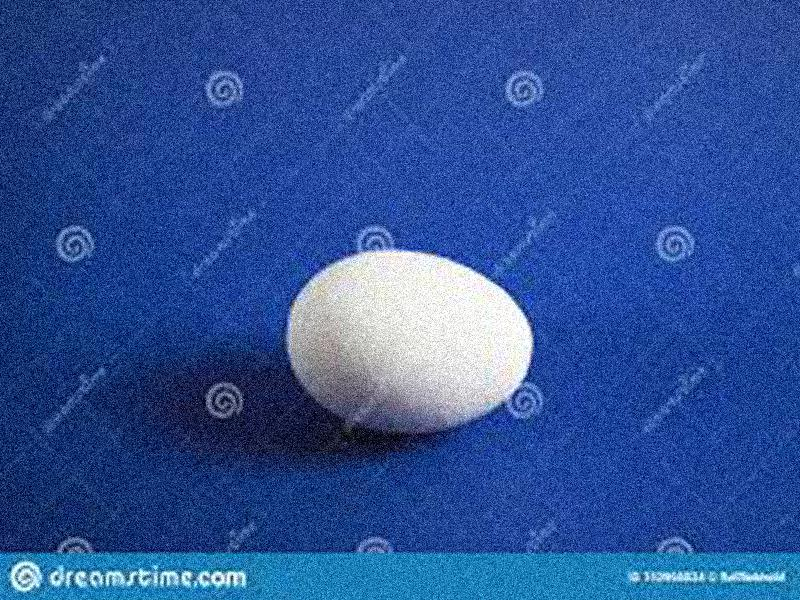Eggs: (285, 251, 533, 434)
